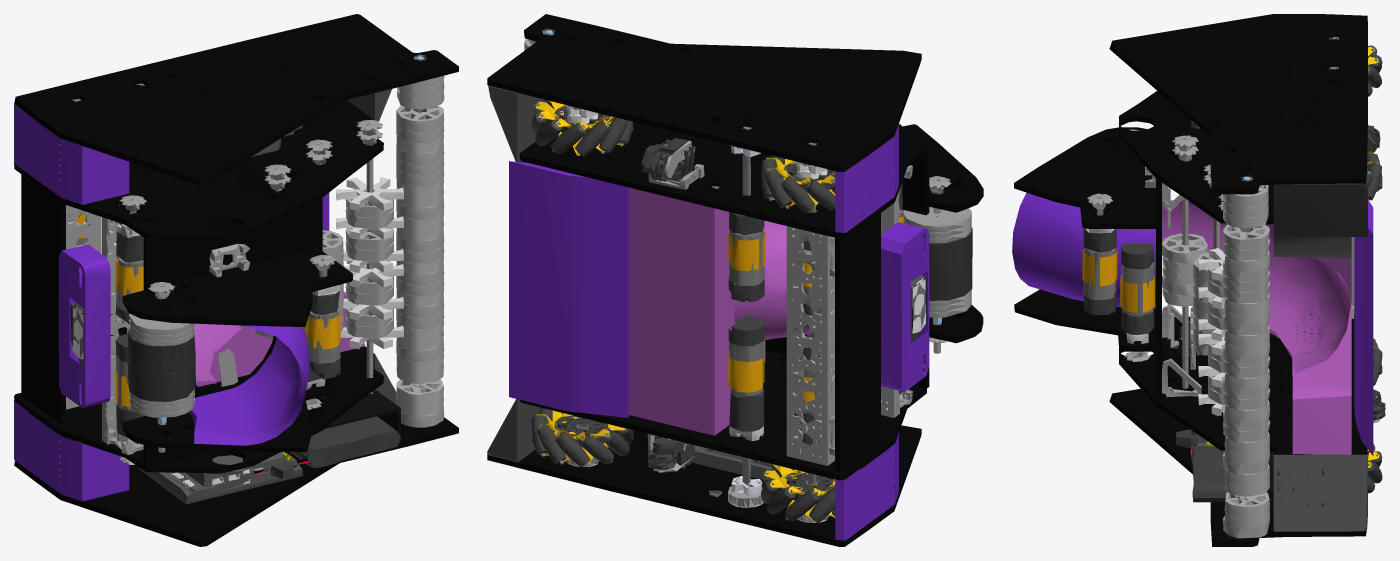
Rendered from stinger-lite.glb.
3 views of the same model, side by side, from view 1: azimuth 30°, elevation 25°; view 2: azimuth 150°, elevation 25°; view 3: azimuth 270°, elevation 25° (orthographic). The views are drawn at different scales.
Visible parts, largest first — view 1: robot; view 2: robot; view 3: robot.
Part boxes in pixels (left/top/right/bottom): robot: left=14, top=14, right=458, bottom=546; robot: left=487, top=14, right=983, bottom=546; robot: left=1012, top=14, right=1385, bottom=546.
Size of the model in its own units: 0.4533 by 0.4283 by 0.4029.
